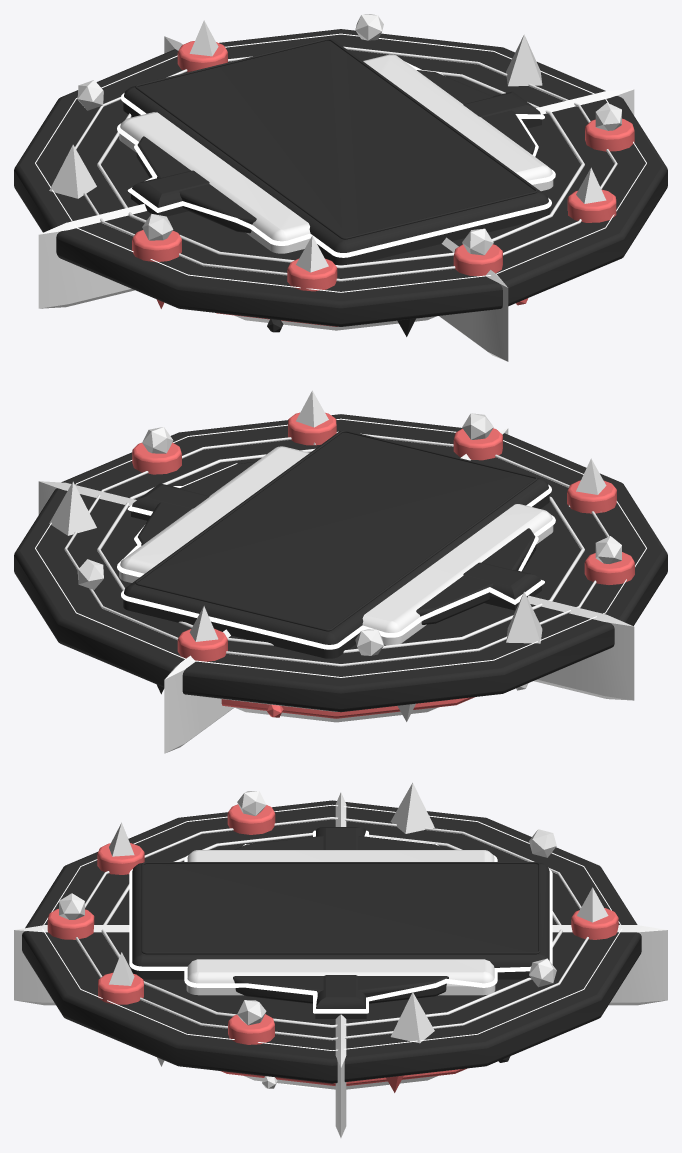
File: webMandala.glb
3 renders of one model, top to bottom at view 1: azimuth 30°, elevation 25°; view 2: azimuth 150°, elevation 25°; view 3: azimuth 270°, elevation 25°, orthographic. The views are drawn at different scales.
Visible parts, largest first — view 1: base, screenCenter, square, razor, circ cle, screenOutlines, narrow1, razor1, ring, screenOutline, ring1, ring3 (+17 smaller); view 2: base, screenCenter, square, razor, circ cle, screenOutlines, razor1, narrow1, ring, screenOutline, ring1, ring3 (+18 smaller); view 3: base, screenCenter, square, razor1, circ cle, screenOutlines, ring, narrow1, screenOutline, ring1, ring3, razor (+16 smaller).
Boxes of the visible parts, x1,y1,x2,y2 form: base: (14,29,667,326); screenCenter: (123,39,549,265); square: (119,54,553,253); razor: (38,89,634,308); circ cle: (136,70,536,233); screenOutlines: (117,61,555,257); narrow1: (131,91,541,216); razor1: (164,36,508,361); ring: (75,46,617,281); screenOutline: (135,38,537,239); ring1: (97,70,584,268); ring3: (35,33,646,292); base: (14,414,667,712); screenCenter: (123,431,549,658); square: (119,446,553,645); razor: (38,481,634,700); circ cle: (136,461,536,624); screenOutlines: (117,463,555,649); razor1: (164,428,508,753); narrow1: (131,483,541,610); ring: (64,431,609,666); screenOutline: (135,430,537,631); ring1: (97,448,584,653); ring3: (35,418,646,677); base: (22,800,641,1083); screenCenter: (131,863,549,979); square: (186,850,495,995); razor1: (14,925,667,1005); circ cle: (233,836,448,1003); screenOutlines: (129,830,552,1013); ring: (75,817,588,1040); narrow1: (315,827,366,1018); screenOutline: (141,862,540,954); ring1: (101,832,562,1027); ring3: (42,804,622,1050); razor: (335,792,346,1137).
Bounding box in the file's own units: 3000 × 759 × 3000.
